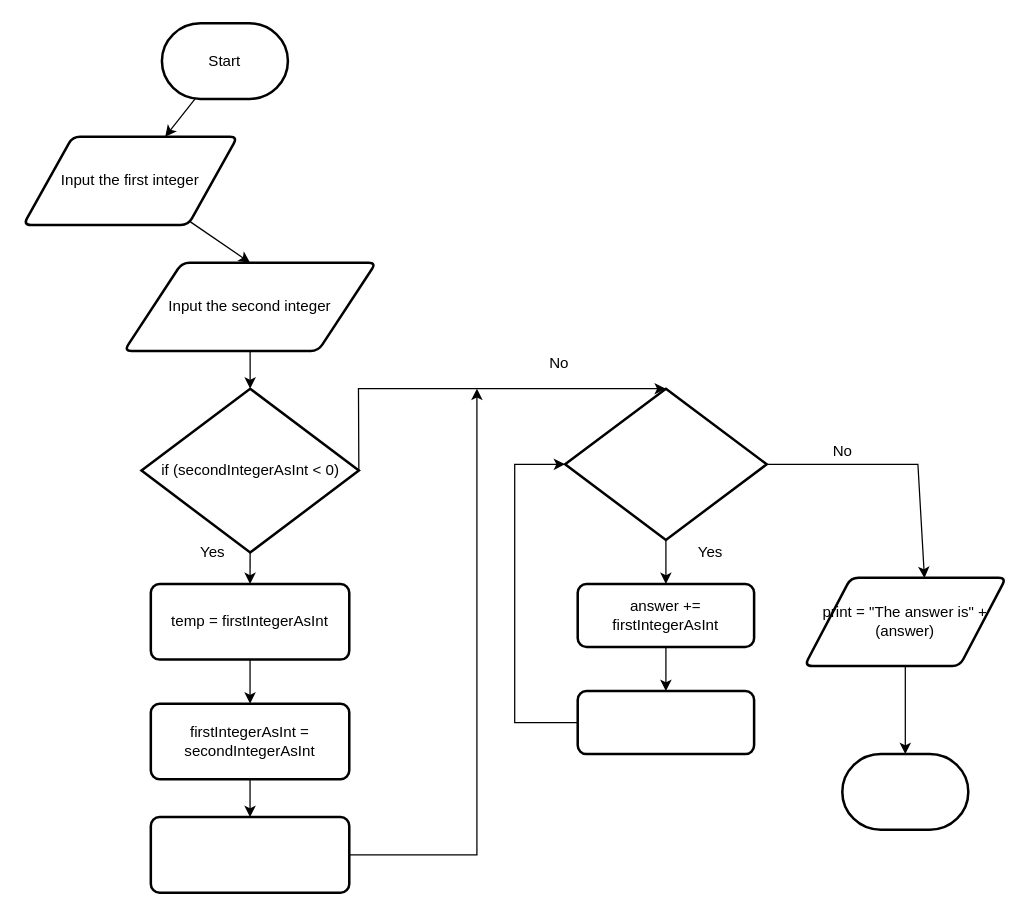
The diagram is 1028 pixels wide and 915 high, and some of its shapes have lost their labels. Each missing label, with the box of its shape:
counter++: (576, 689, 755, 755)
secondIntegerAsInt = temp: (149, 815, 350, 893)
Stop: (840, 752, 969, 830)
while (counter < secondIntegerAsInt): (563, 387, 767, 541)
